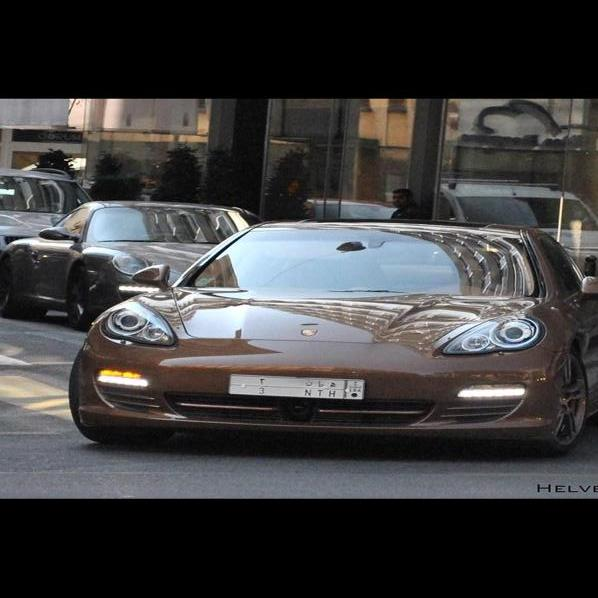numberplate: (229, 370, 366, 401)
